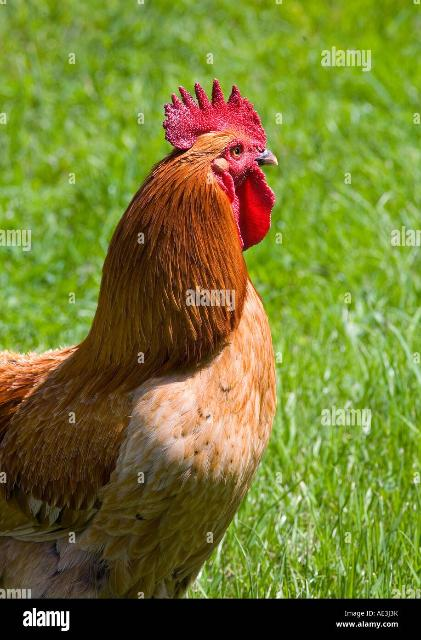Chicken: (0, 77, 279, 596)
